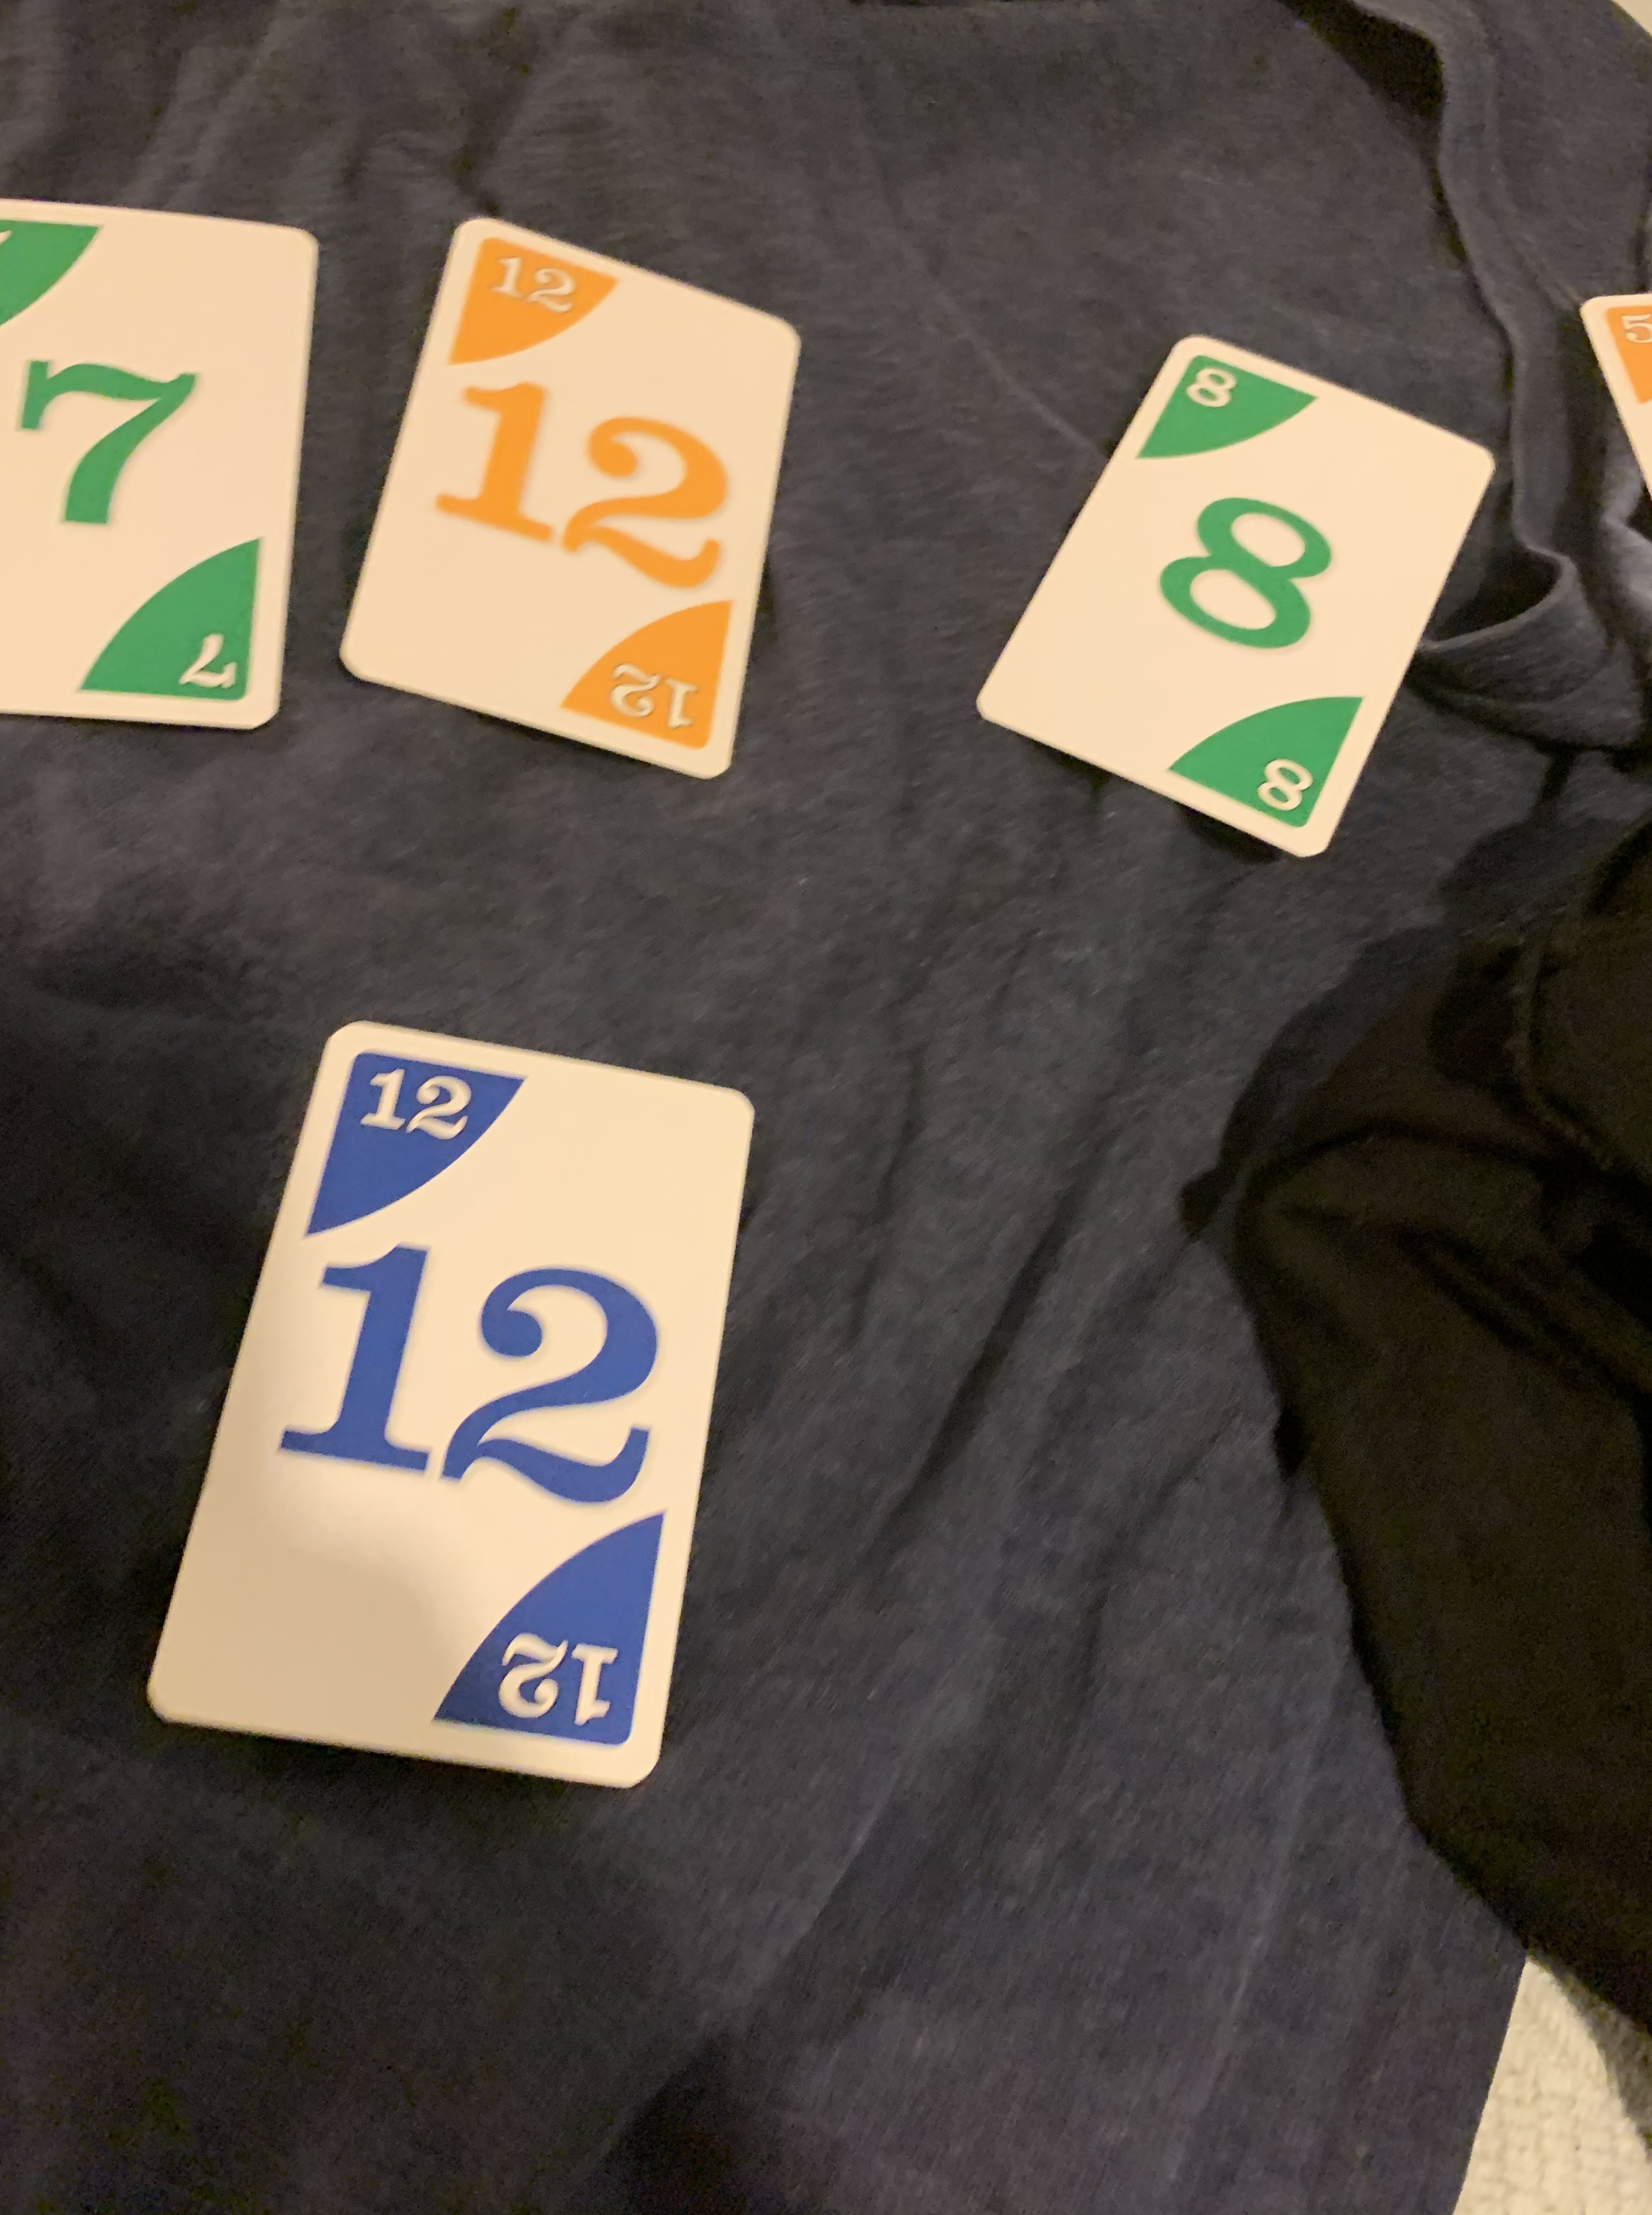eight: (986, 328, 1499, 880)
seven: (0, 175, 319, 729)
twelve: (146, 1028, 758, 1795), (328, 215, 816, 790)
